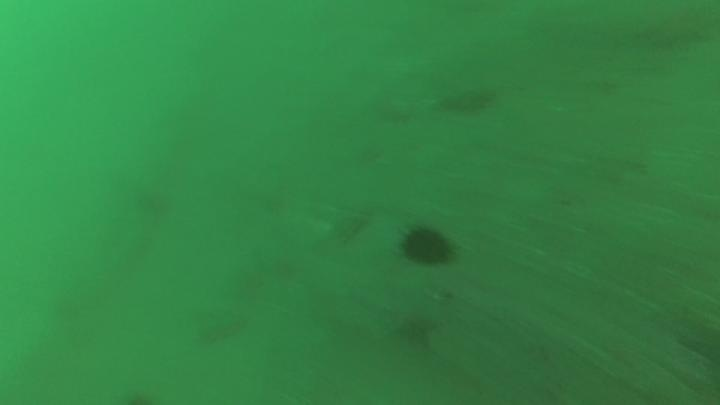echinus: (397, 221, 457, 270)
